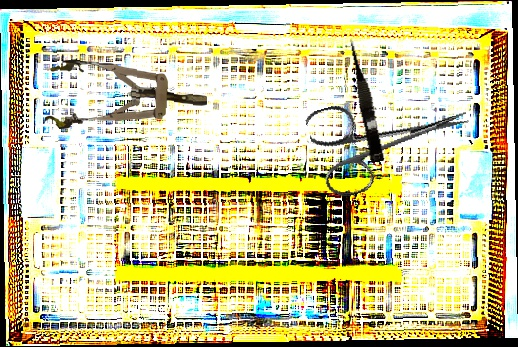Iris Scissors: (303, 71, 480, 202)
Micro Scissor: (345, 36, 387, 164)
Speculum: (44, 58, 209, 137)
